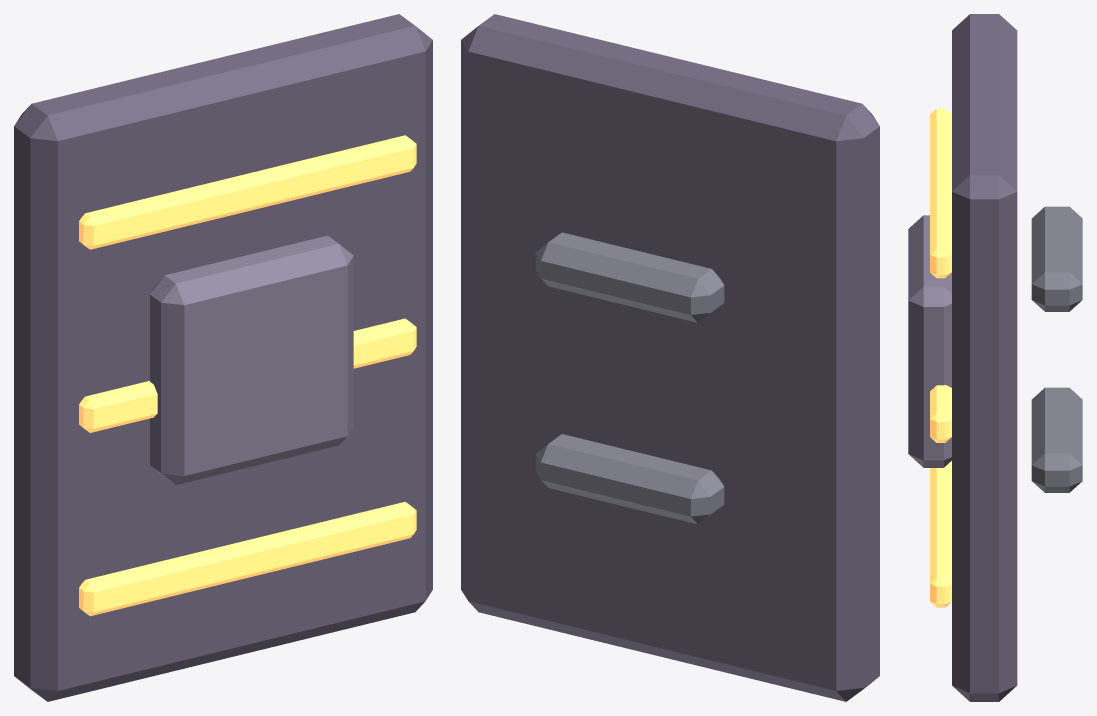
Rendered from ember_heat_shield.glb.
The picture shows the model from 3 angles, left to right: view 1: azimuth 30°, elevation 25°; view 2: azimuth 150°, elevation 25°; view 3: azimuth 270°, elevation 25°; orthographic projection. The views are drawn at different scales.
Parts seen in each view (by area): view 1: ember_heat_shield_Body; view 2: ember_heat_shield_Body, ember_heat_shield_Handles.001; view 3: ember_heat_shield_Body, ember_heat_shield_Handles.001.
Part boxes in pixels (<box>): ember_heat_shield_Body: <box>14,14,432,701</box>; ember_heat_shield_Body: <box>461,14,879,701</box>; ember_heat_shield_Handles.001: <box>535,232,724,524</box>; ember_heat_shield_Body: <box>908,14,1017,701</box>; ember_heat_shield_Handles.001: <box>1031,206,1082,492</box>.
Bounding box in the file's own units: 1.15 × 1.6 × 0.48.
